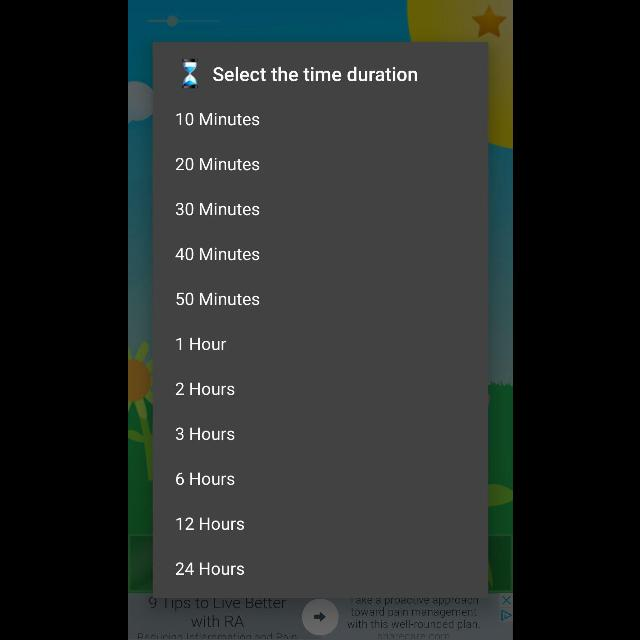image: (180, 59, 198, 90)
panel: (152, 42, 488, 598)
text: (212, 66, 416, 82), (175, 112, 258, 126), (175, 292, 258, 306), (175, 157, 259, 170), (175, 202, 259, 215), (175, 248, 259, 260), (174, 562, 243, 576), (174, 382, 233, 396), (176, 518, 244, 530), (176, 472, 234, 486), (174, 428, 233, 440), (175, 338, 225, 350)
